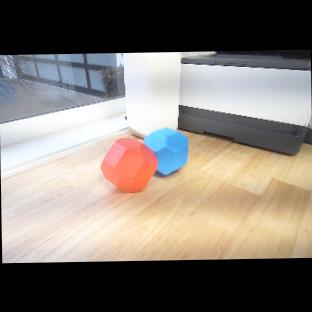V5_BLUE: (146, 127, 191, 174)
V5_RED: (100, 135, 156, 196)
pieces: (97, 125, 194, 199)
